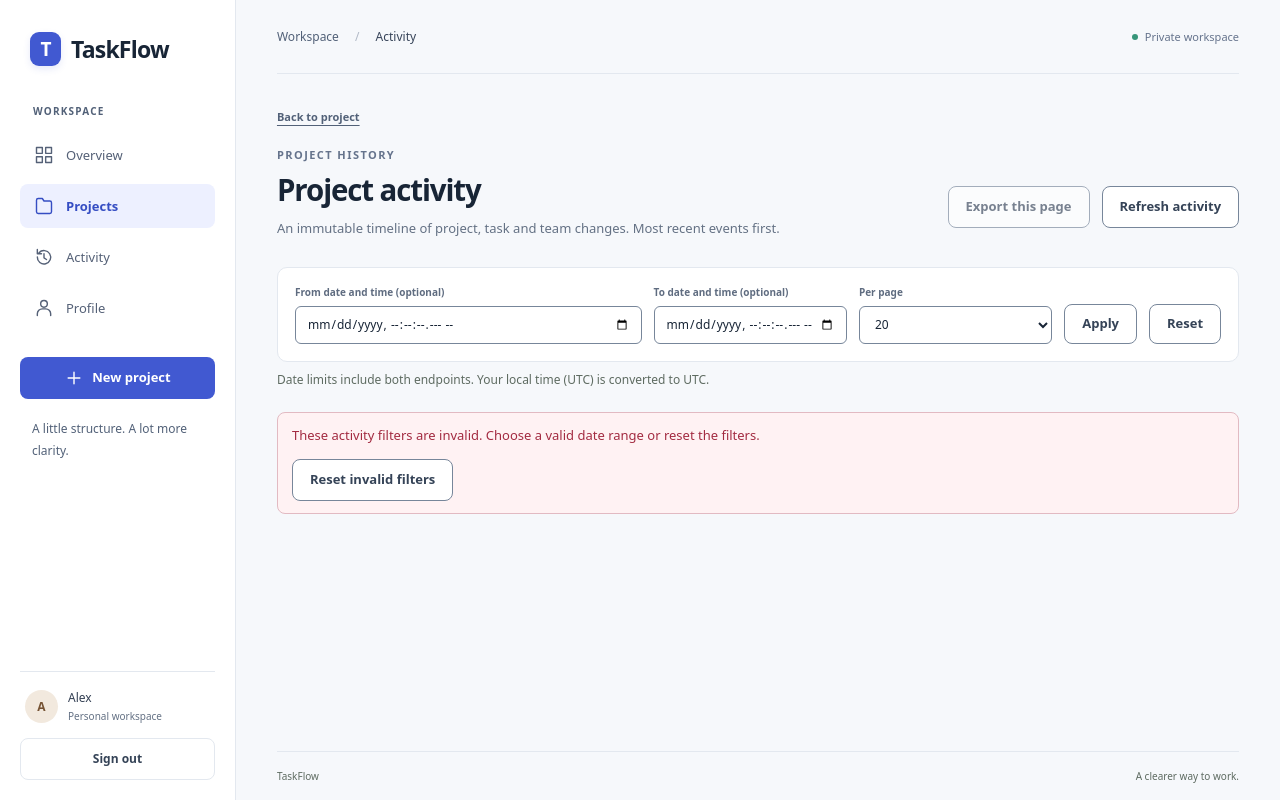
Scenario: Project activity › offers safe server retry, invalid-filter reset and a fresh feed refresh
expect the message shows "activity filters are invalid": met, box [292,426,760,444]
Click the button "Reset invalid filters" at (373, 480), box [292,459,453,501]
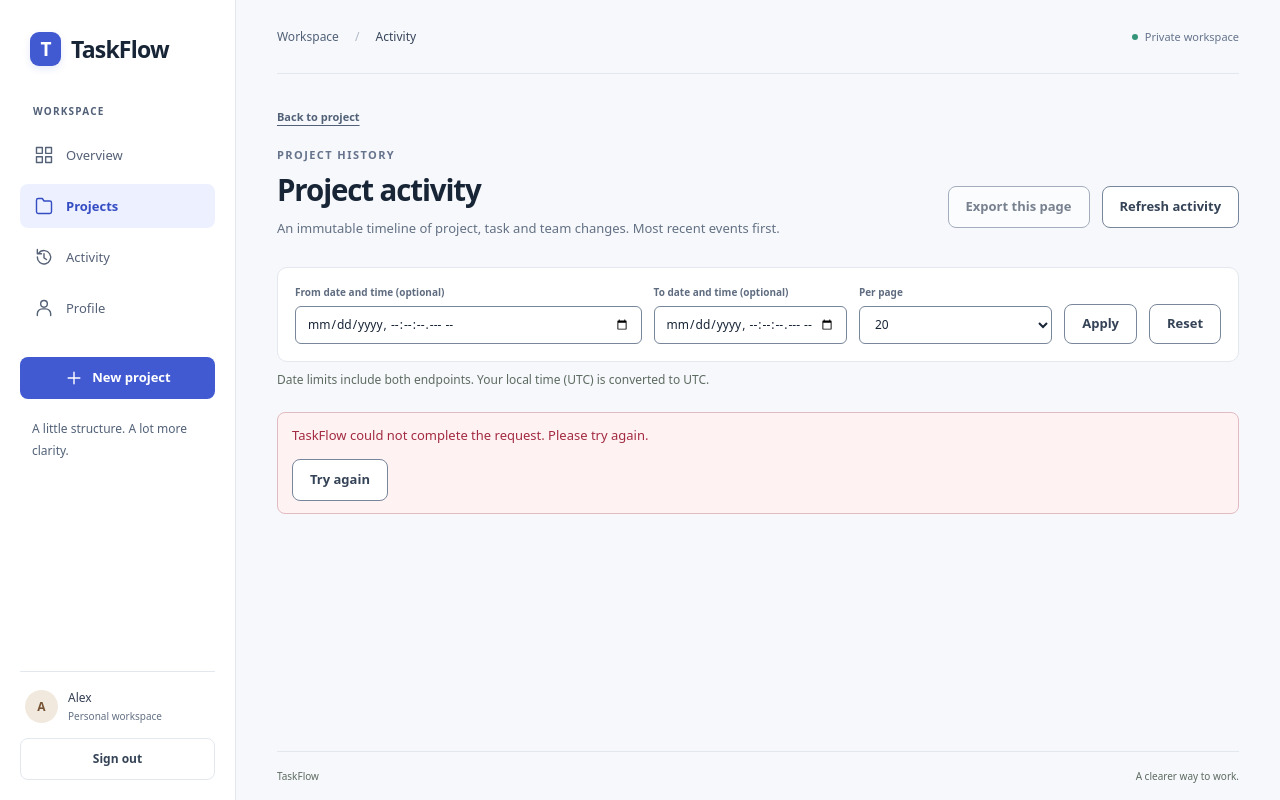
expect the button "Try again" is shown: met
Click the button "Try again" at (340, 480), box [292,459,388,501]
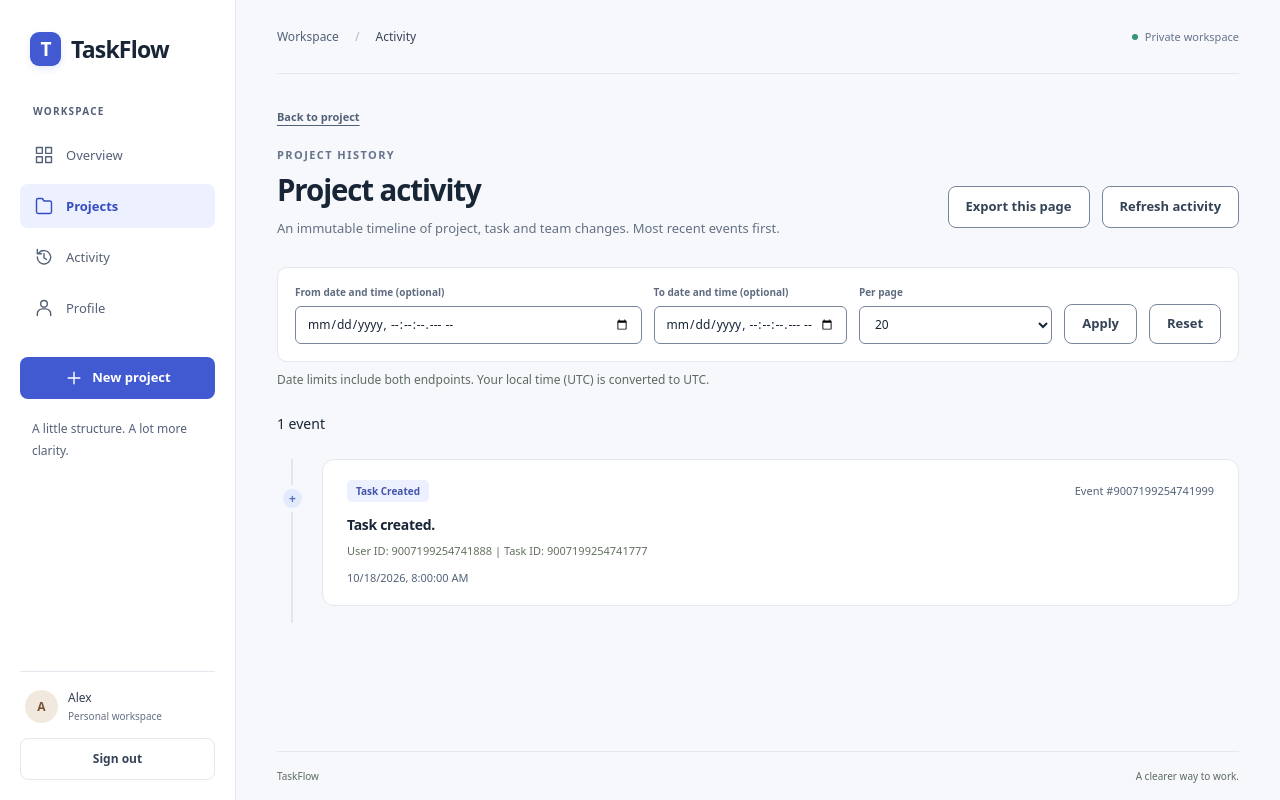
expect the heading "Task created." is shown: met, box [347,515,435,534]
Click the button "Refresh activity" at (1170, 207), box [1102,186,1239,228]
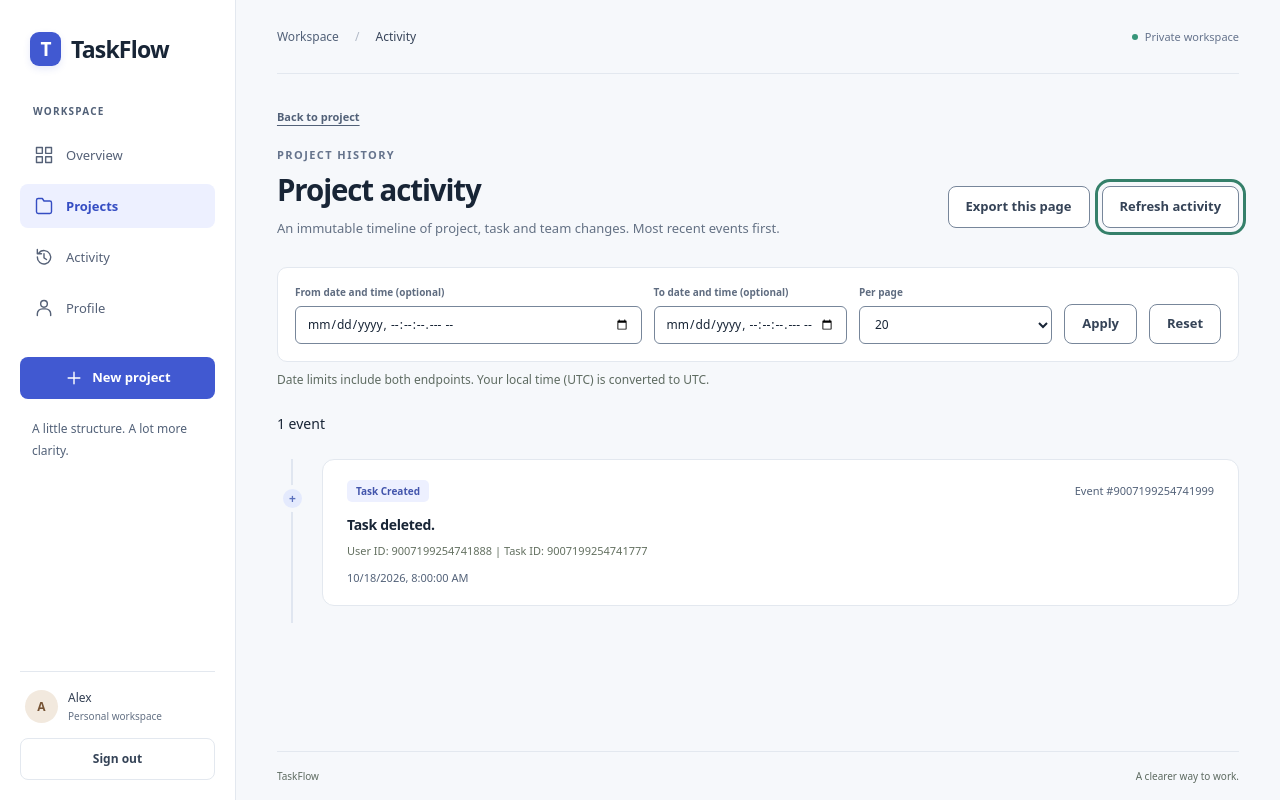
expect the heading "Task deleted." is shown: met, box [347,515,435,534]
